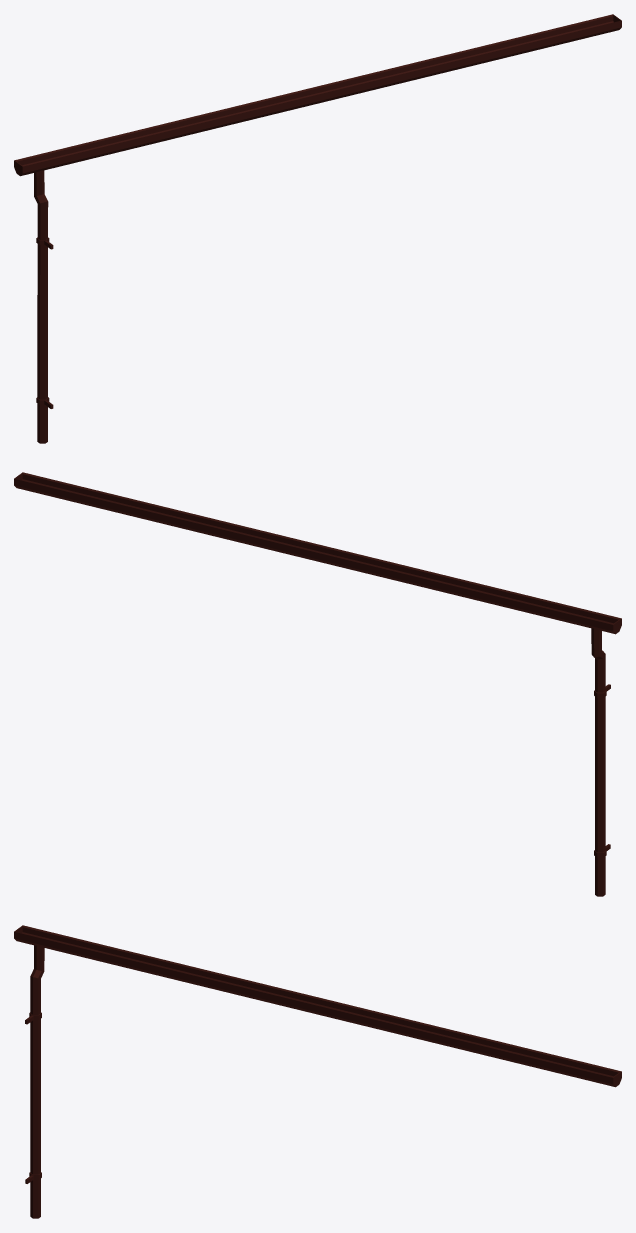
File: rainwater channel1.fbx
3 views of the same model, one above another, from view 1: azimuth 30°, elevation 25°; view 2: azimuth 150°, elevation 25°; view 3: azimuth 330°, elevation 25° (orthographic).
Parts seen in each view (by area): view 1: canale, tubo_canale; view 2: canale, tubo_canale; view 3: canale, tubo_canale.
Part boxes in pixels (x1,y1,x2,y2): canale: (15, 14, 620, 175); tubo_canale: (34, 170, 48, 443); canale: (14, 472, 620, 633); tubo_canale: (591, 628, 605, 896); canale: (14, 925, 620, 1086); tubo_canale: (30, 945, 44, 1218).
Size of the model in its own units: 1306 by 585 by 65.6.
